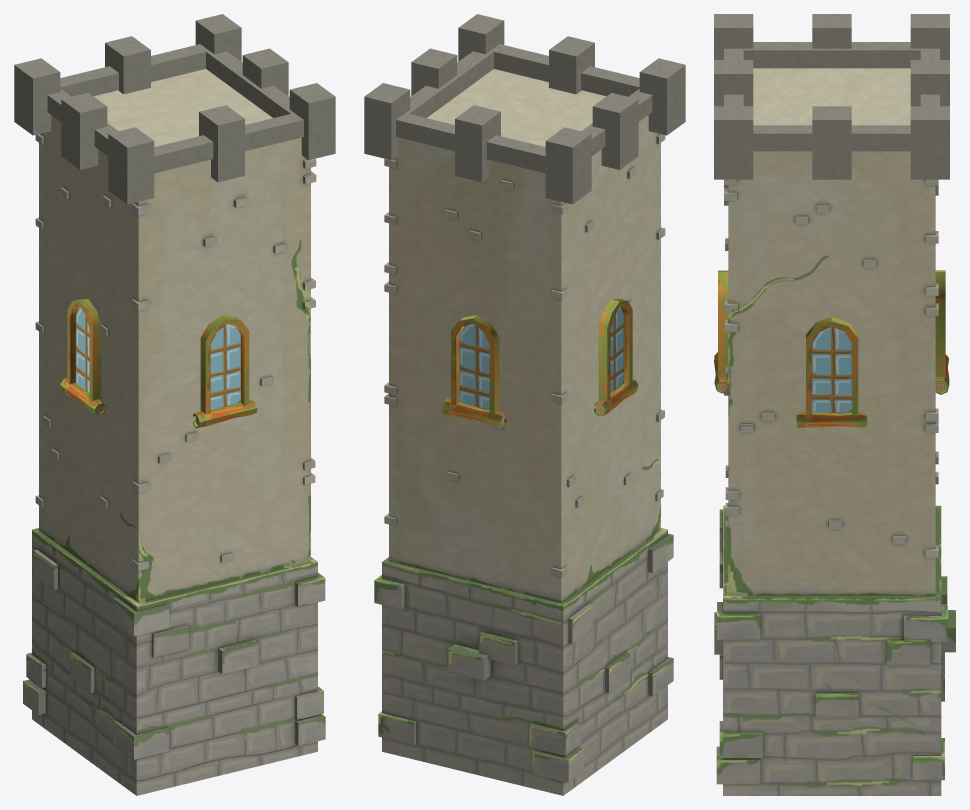
Rendered from handpainted_tower.glb.
3 renders of one model, left to right at view 1: azimuth 30°, elevation 25°; view 2: azimuth 150°, elevation 25°; view 3: azimuth 270°, elevation 25°, orthographic. The views are drawn at different scales.
Parts seen in each view (by area): view 1: Object_4, Object_3, Object_5; view 2: Object_4, Object_3, Object_5; view 3: Object_4, Object_3, Object_5.
Part boxes in pixels (<box>): Object_4: <box>23,69,325,795</box>; Object_3: <box>14,14,335,204</box>; Object_5: <box>60,299,257,428</box>; Object_4: <box>374,69,673,795</box>; Object_3: <box>364,14,685,204</box>; Object_5: <box>441,299,638,426</box>; Object_4: <box>714,68,955,795</box>; Object_3: <box>714,14,949,179</box>; Object_5: <box>714,270,949,427</box>.
Size of the model in its own units: 0.2642 by 0.7927 by 0.2545.
3 materials, 3 textured.
